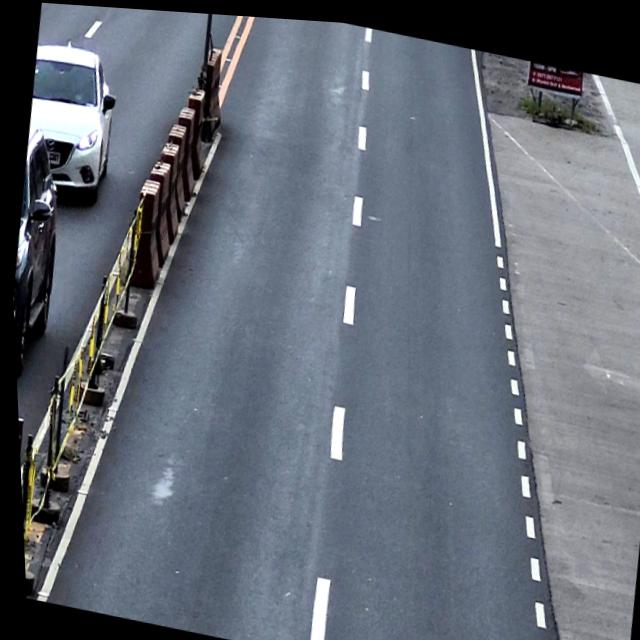Car: (16, 38, 127, 210), (4, 123, 75, 385)
License-Plate: (42, 149, 61, 168)
